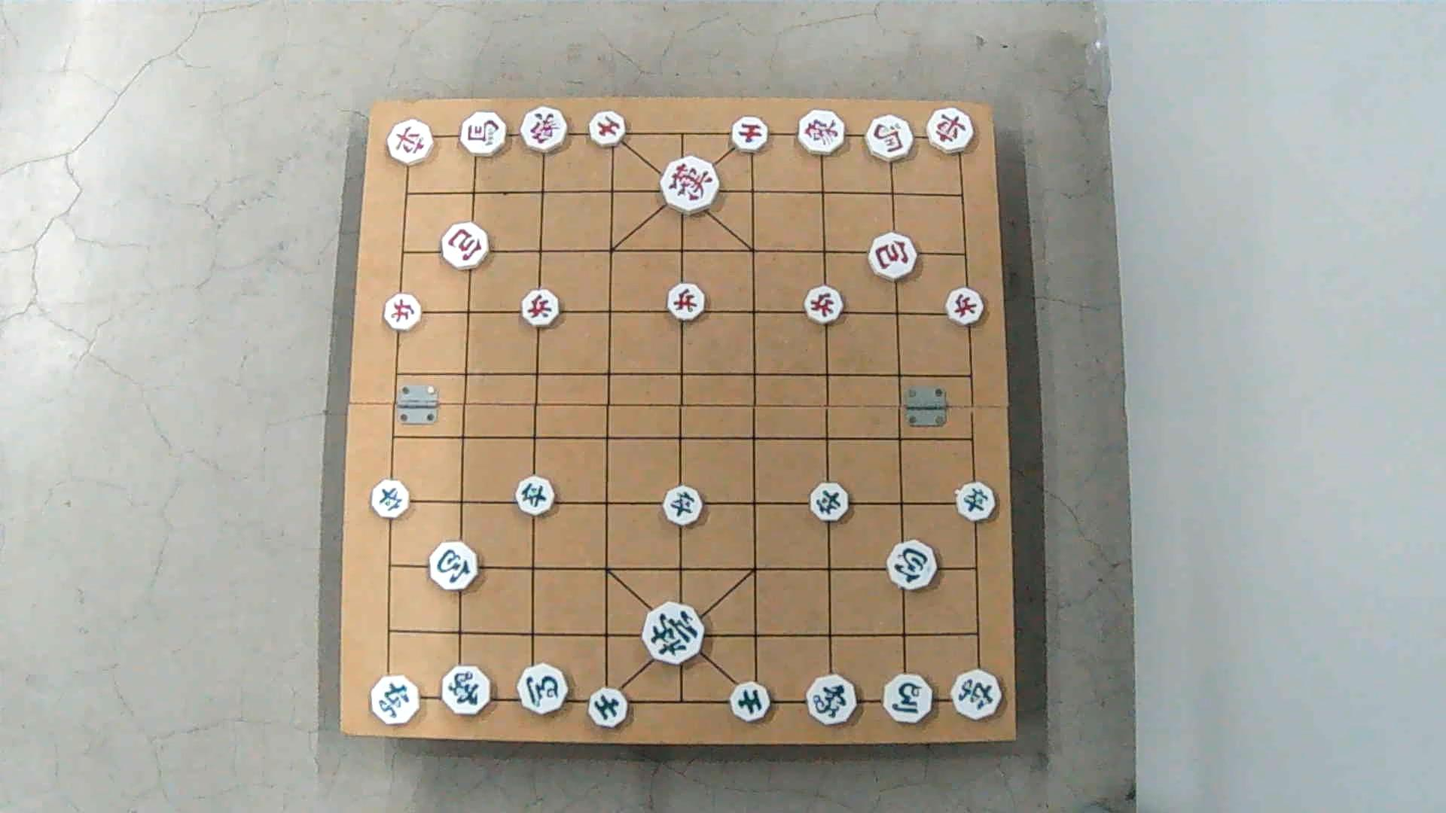cha_green: (949, 668, 999, 723), (373, 678, 423, 726)
cha_red: (386, 118, 436, 166), (927, 108, 975, 154)
jol_green: (954, 484, 995, 521), (518, 477, 557, 515), (664, 487, 703, 525), (810, 483, 850, 520), (373, 482, 412, 518)
jol_red: (522, 291, 562, 327), (804, 288, 844, 324), (669, 286, 707, 322), (383, 297, 423, 331), (944, 290, 984, 324)
ma_green: (881, 672, 937, 726), (518, 662, 569, 716)
ma_red: (867, 117, 916, 160), (459, 113, 507, 156)
po_green: (884, 541, 934, 588), (427, 544, 477, 589)
po_red: (868, 234, 918, 280), (444, 224, 491, 267)
sa_green: (731, 680, 772, 725), (590, 687, 630, 729)
sa_red: (587, 112, 627, 145), (730, 117, 768, 151)
sang_green: (443, 663, 493, 720), (809, 674, 859, 729)
sang_red: (800, 108, 847, 160), (520, 108, 569, 151)
wang_green: (643, 605, 703, 662)
wang_red: (662, 157, 719, 209)
